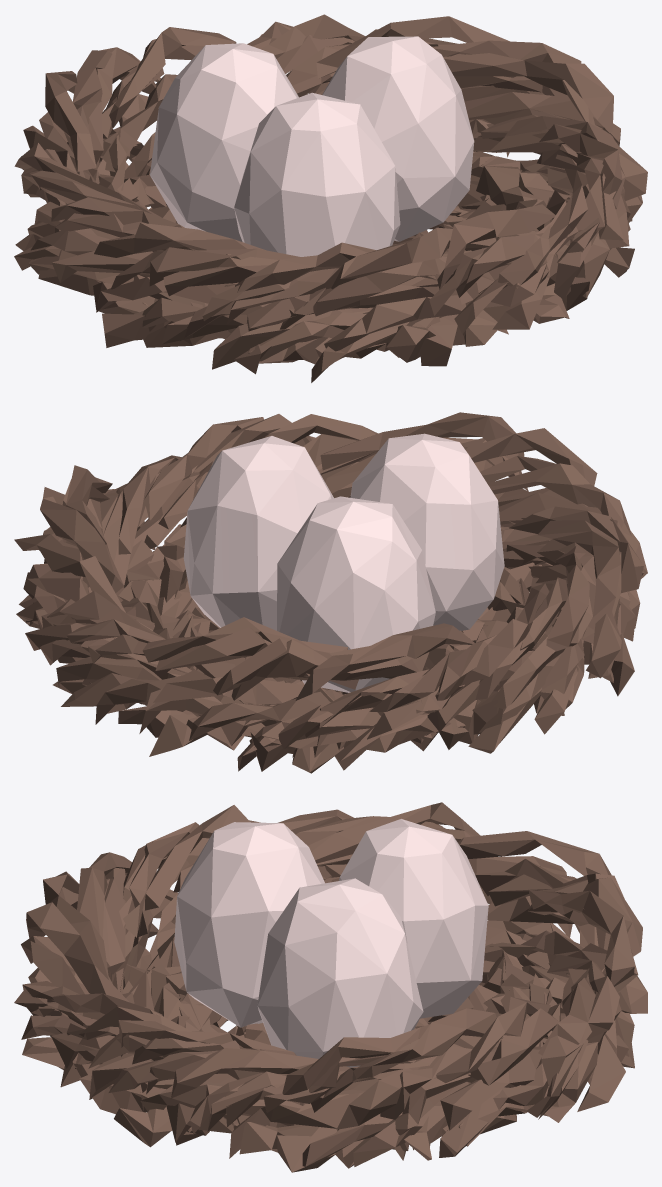
Rendered from Nest_25.fbx.
The picture shows the model from 3 angles, top to bottom: view 1: azimuth 30°, elevation 25°; view 2: azimuth 150°, elevation 25°; view 3: azimuth 270°, elevation 25°; orthographic projection.
Parts seen in each view (by area): view 1: Nest_25_LOD0; view 2: Nest_25_LOD0; view 3: Nest_25_LOD0.
Part boxes in pixels (x1,y1,x2,y2): Nest_25_LOD0: (14,14,647,382); Nest_25_LOD0: (14,412,647,773); Nest_25_LOD0: (14,802,647,1172).
Size of what is drawn, in the model's own units: 74.22 by 29.21 by 73.55.
